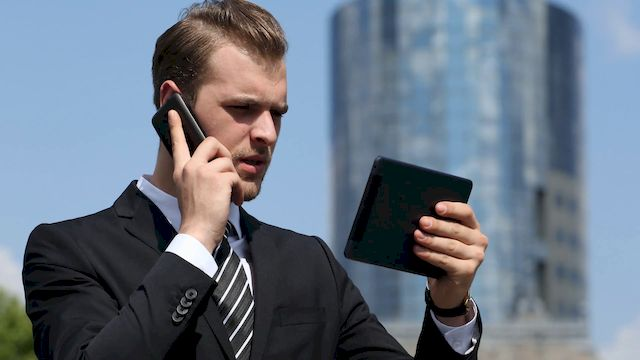phone: (151, 100, 213, 170)
talk: (154, 65, 292, 228)
